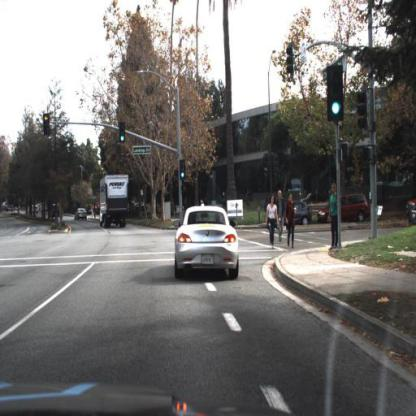car: (176, 205, 241, 278), (318, 191, 371, 225), (281, 204, 314, 227), (74, 206, 90, 224), (76, 208, 90, 224)
pedestrian: (267, 195, 279, 249), (285, 192, 296, 248), (329, 183, 338, 249), (277, 190, 285, 244)
trafficLight-Green: (329, 68, 343, 120), (180, 158, 189, 179), (120, 122, 127, 142)
trafficLight-RedLeft: (43, 113, 51, 140)
truck: (100, 175, 131, 228)
